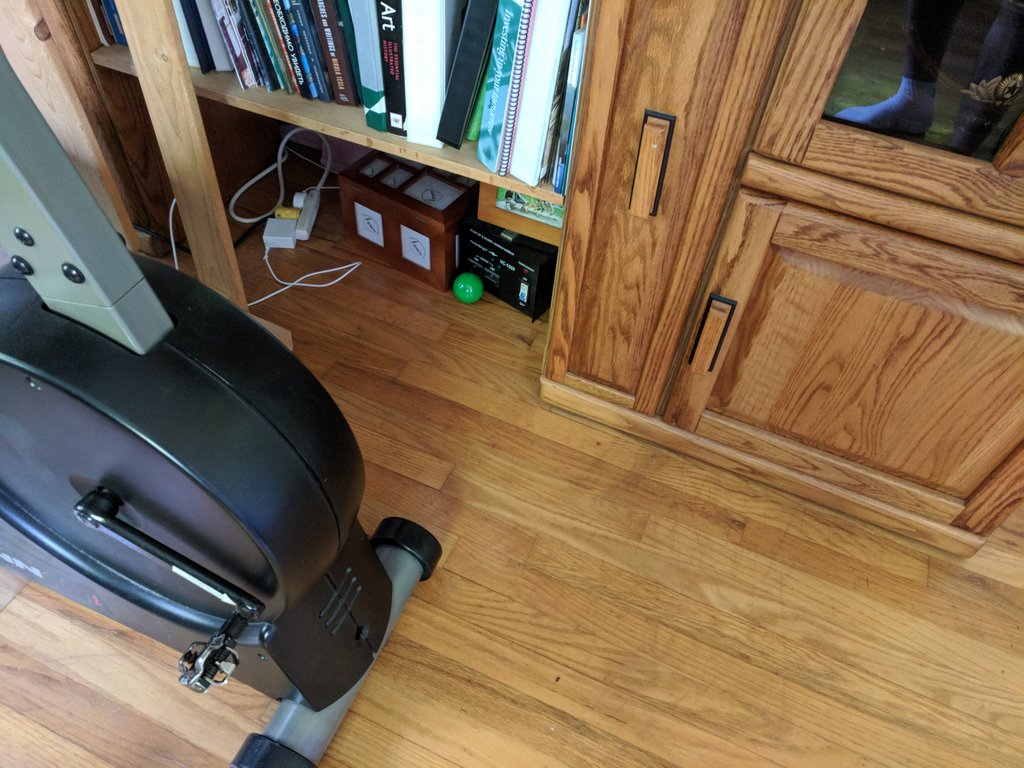ball: (450, 273, 485, 304)
